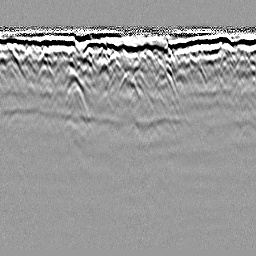cavity: (116, 69, 140, 98)
